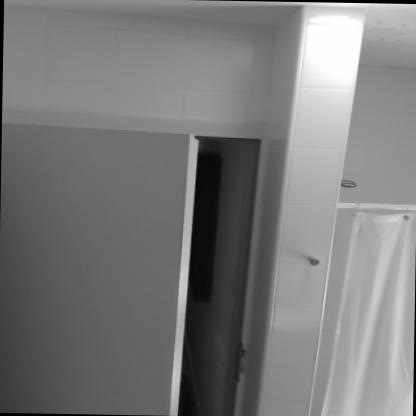semi: (0, 103, 290, 416)
